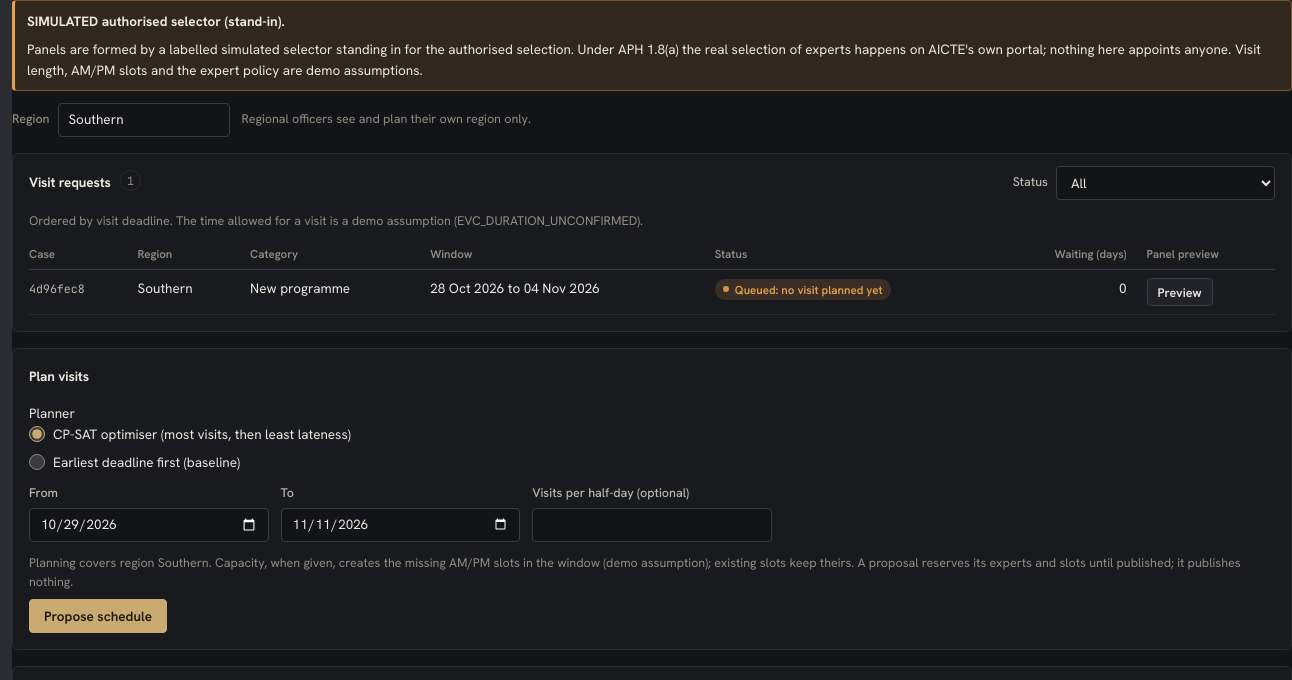
it: EVC scheduling › proposes with CP-SAT, then reads the run back with its limits, unplanned reasons and solver details
The image size is (1292, 680).
Click the button "Propose schedule" at (98, 616), box left=29, top=599, right=167, bottom=633
(page scrolled)
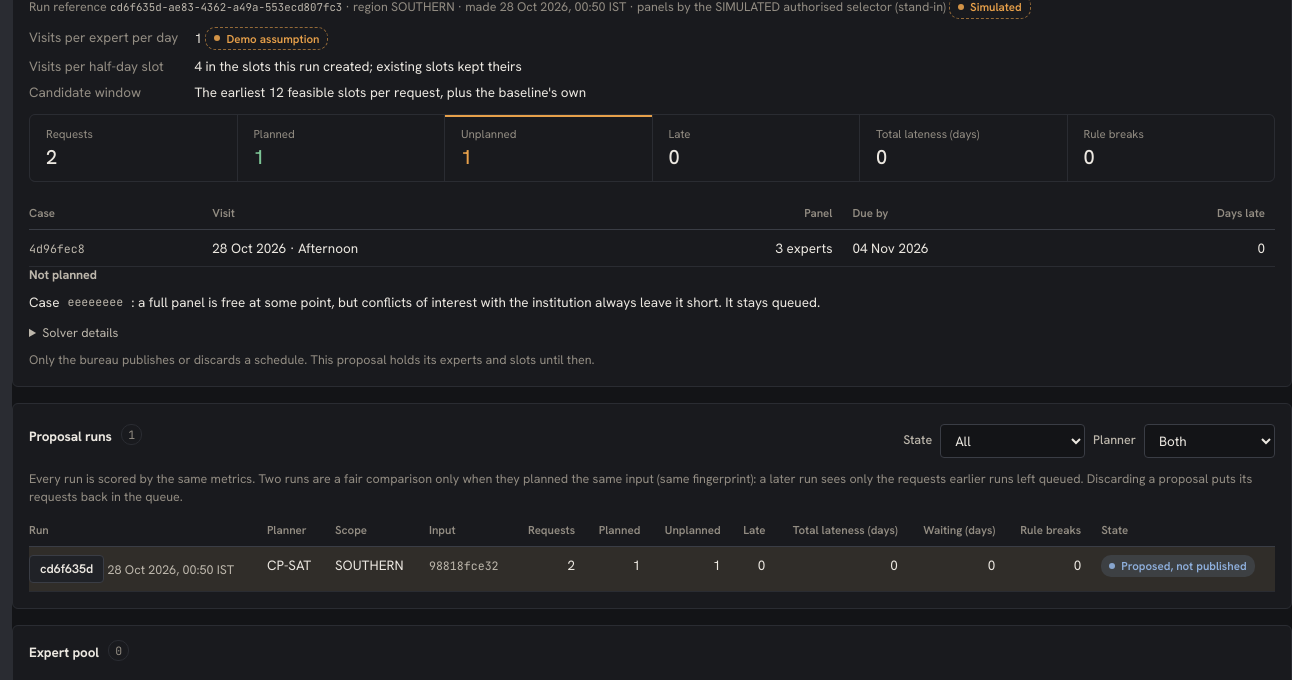
Expected: the list item "conflicts of interest with the institution always leave it short" is shown, left=138, top=293, right=722, bottom=311
Expected: the text "Visits per expert per day" is shown, left=29, top=27, right=178, bottom=50
Expected: the text "The earliest 12 feasible slots per request" is shown, left=194, top=83, right=586, bottom=101
